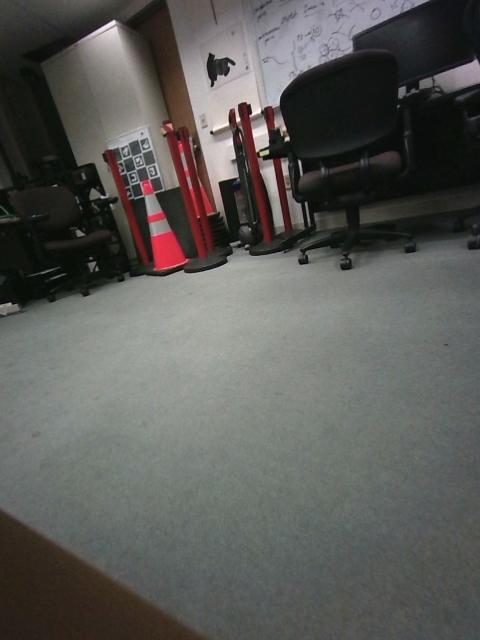block: (264, 262, 302, 282)
